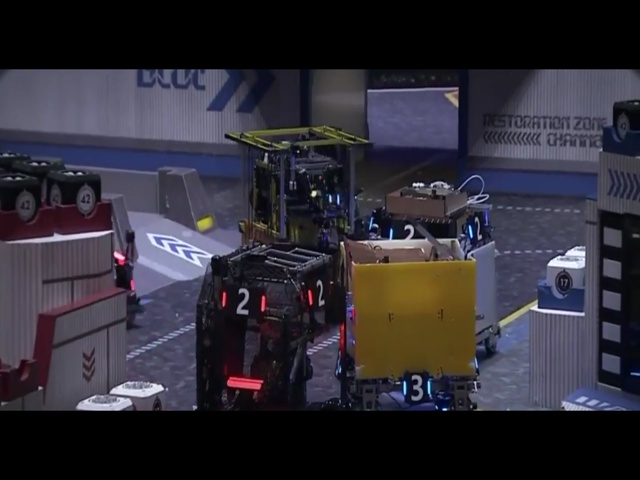plate: (220, 282, 269, 322), (400, 371, 435, 407), (305, 274, 329, 312), (386, 220, 430, 240), (464, 212, 487, 246)
